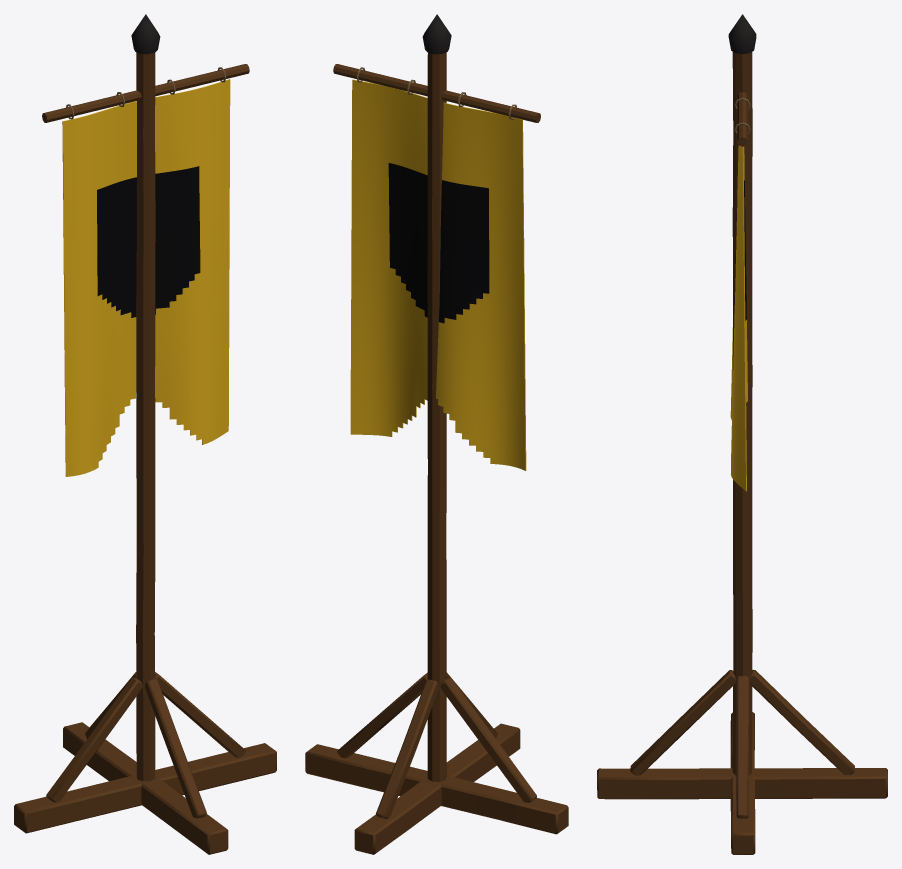
File: banner_gelb.glb
The picture shows the model from 3 angles, left to right: view 1: azimuth 30°, elevation 25°; view 2: azimuth 150°, elevation 25°; view 3: azimuth 270°, elevation 25°; orthographic projection.
Parts seen in each view (by area): view 1: banner_gelb; view 2: banner_gelb; view 3: banner_gelb.
Boxes of the visible parts, bbox=[...] form: banner_gelb: bbox=[14, 14, 276, 854]; banner_gelb: bbox=[305, 14, 568, 854]; banner_gelb: bbox=[597, 14, 887, 854].
Size of the model in its own units: 1.2 by 3.56 by 1.2.
